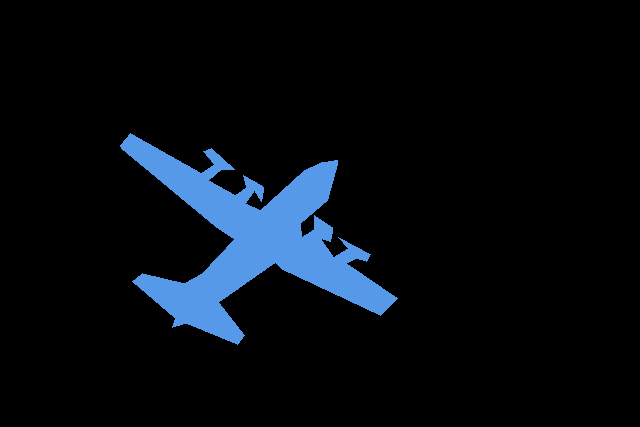Airplane: (120, 133, 397, 345)
